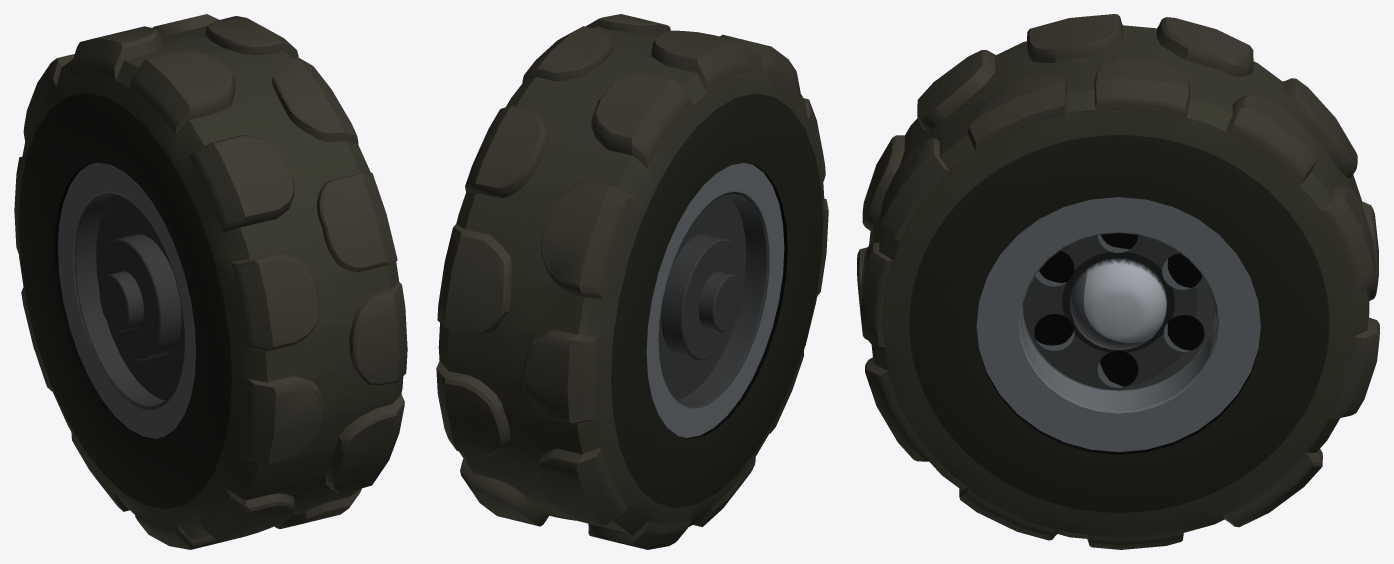
File: Hill Climber Mk. 2 HCR2 3D model_wheel_L.fbx
3 views of the same model, side by side, from view 1: azimuth 30°, elevation 25°; view 2: azimuth 150°, elevation 25°; view 3: azimuth 270°, elevation 25° (orthographic).
Parts seen in each view (by area): view 1: HCR2_HC2_FL_Wheel; view 2: HCR2_HC2_FL_Wheel; view 3: HCR2_HC2_FL_Wheel.
Boxes of the visible parts, x1,y1,x2,y2 form: HCR2_HC2_FL_Wheel: [14, 14, 407, 549]; HCR2_HC2_FL_Wheel: [436, 14, 828, 549]; HCR2_HC2_FL_Wheel: [857, 14, 1379, 549].
Size of the model in its own units: 41.17 by 103 by 103.
